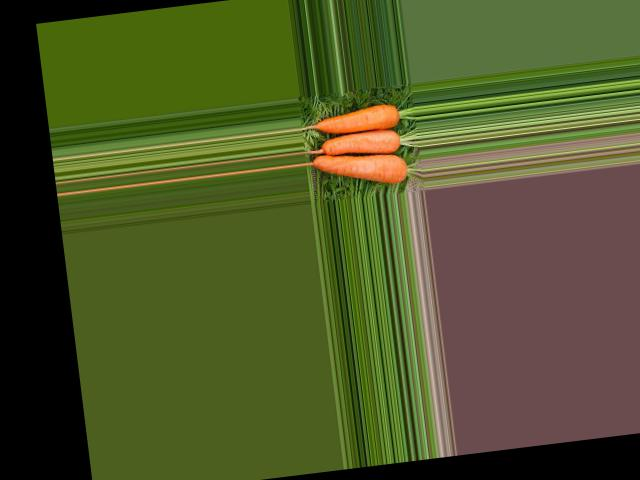carrot: (311, 145, 410, 194)
